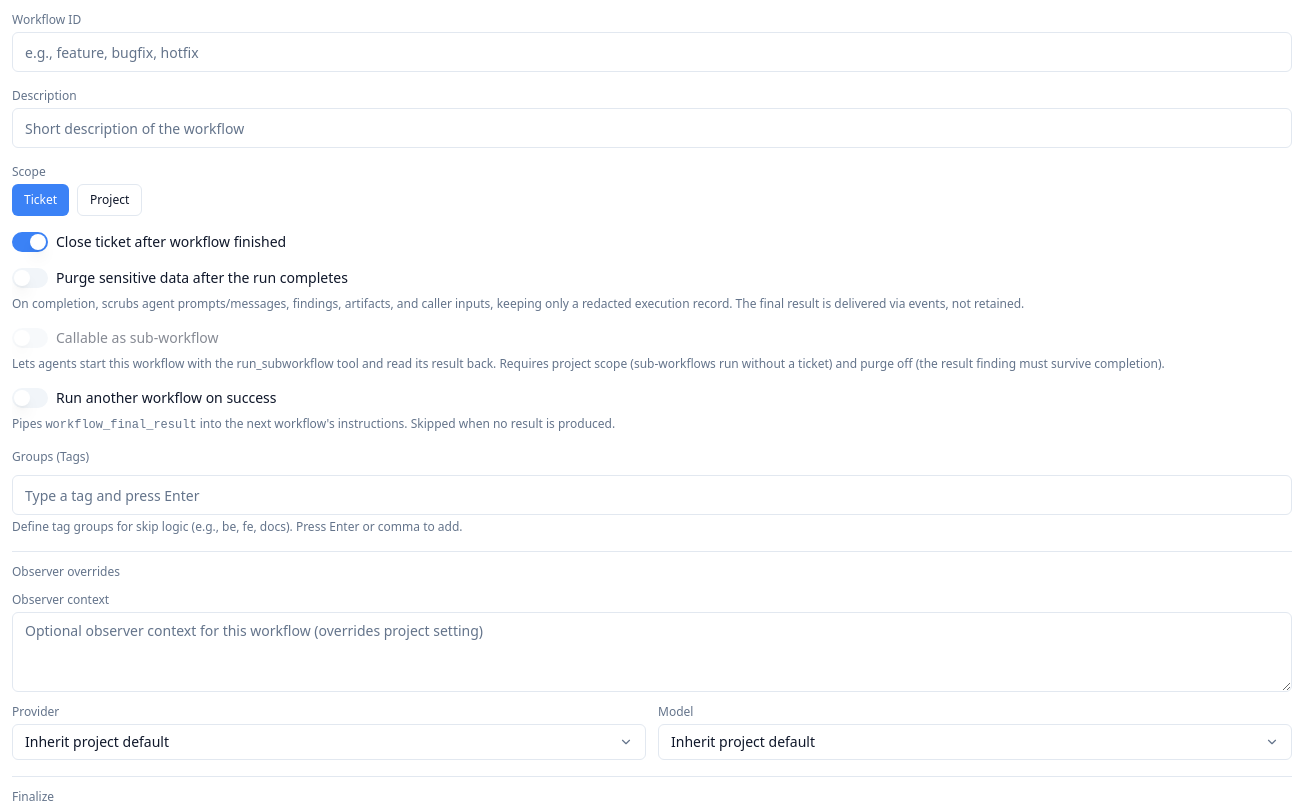
Test: WorkflowDefForm › next_workflow_on_success › selects first project workflow on checkbox toggle and shows dropdown
Click the switch named "run another workflow on success" next to "Run another workflow on success": (30, 398) [12,388,48,408]
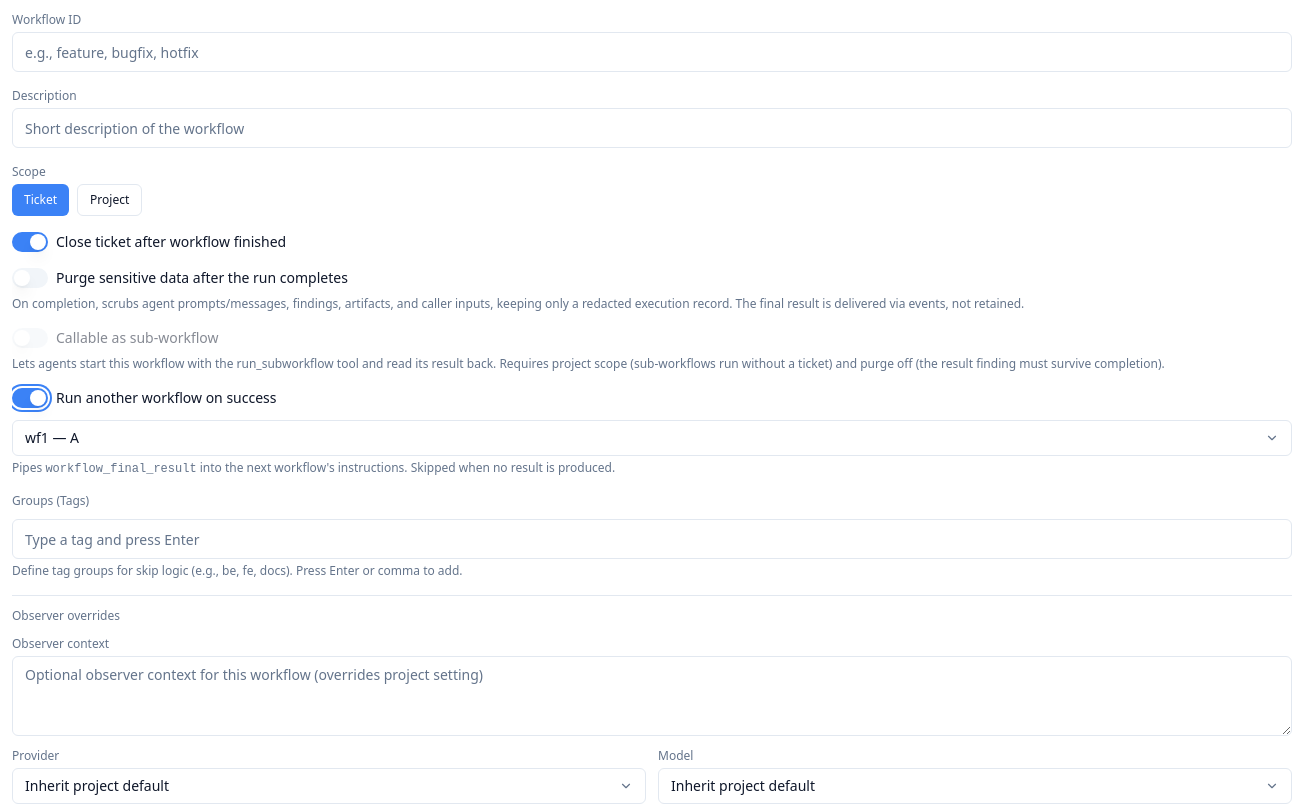
Result: the button "wf1 — A" is shown at [12,420,1292,456]
